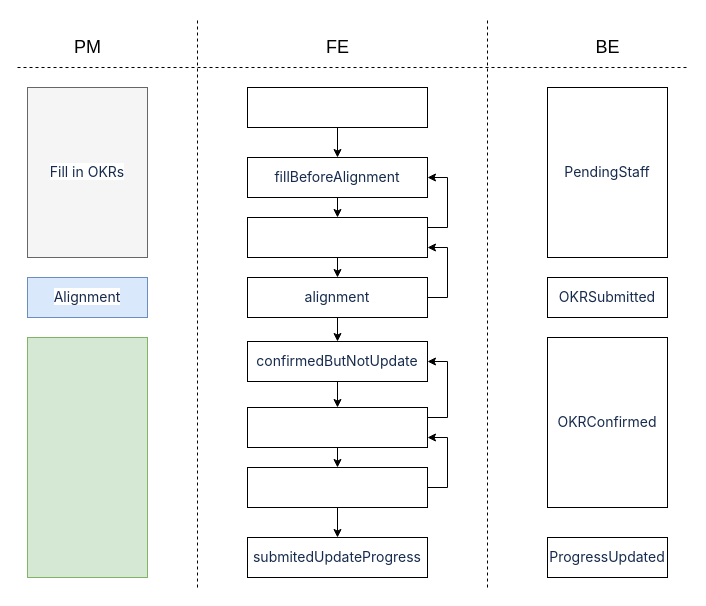
This 706x606 diagram has some shape labels left out. Here are the shapes that lost their labels. From the top down, the centre of each, then its label:
At point (337, 107): "beforeFill".
At point (337, 237): "savedBeforeAlignment".
At point (337, 427): "fillUpdateProgress".
At point (87, 457): "Progress update".
At point (337, 487): "savedUpdateProgress".
